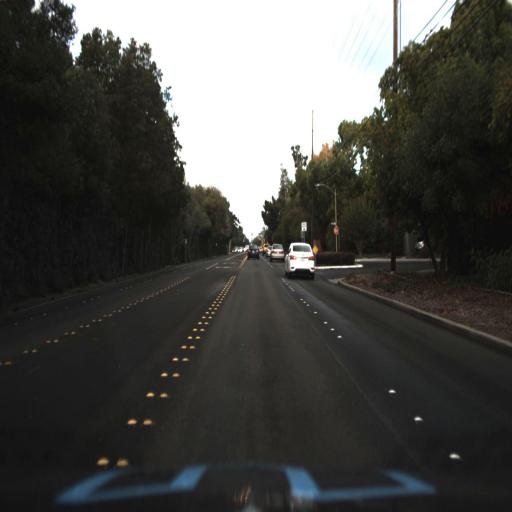car: (282, 239, 317, 282), (245, 244, 261, 263), (268, 239, 282, 260)
